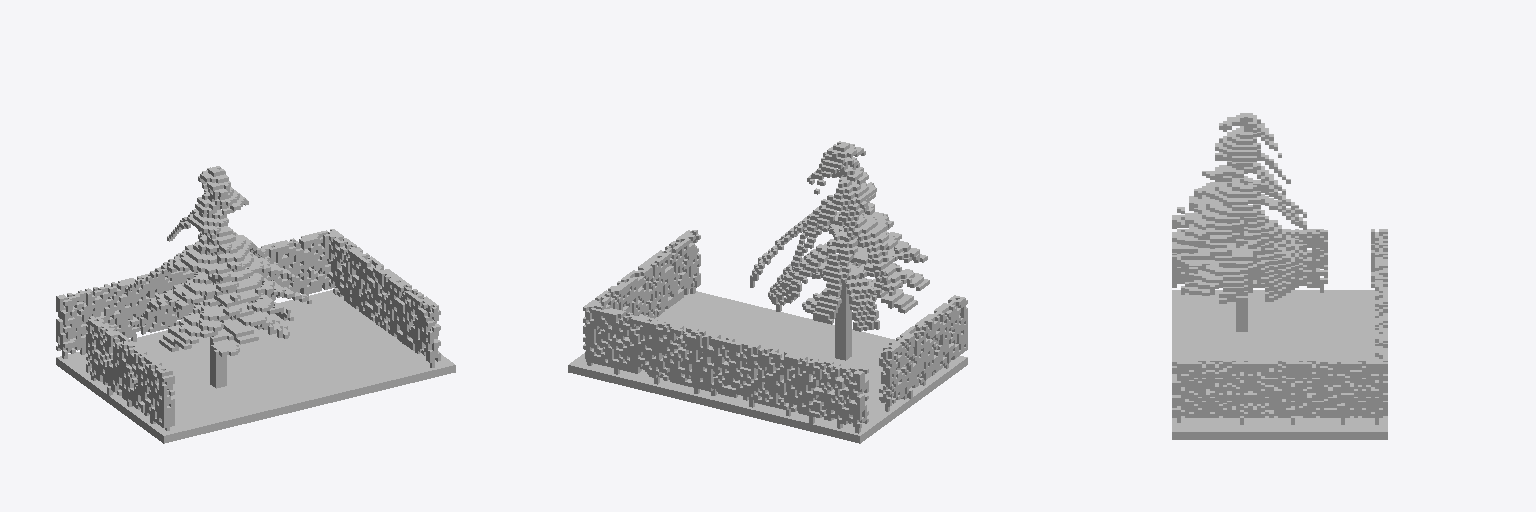
Rendered from immobiliare san marco veg.obj.
3 renders of one model, left to right at view 1: azimuth 30°, elevation 25°; view 2: azimuth 150°, elevation 25°; view 3: azimuth 270°, elevation 25°, orthographic.
Parts seen in each view (by area): view 1: object 1; view 2: object 1; view 3: object 1.
Boxes of the visible parts, box(x1,y1,x2,y2) form: object 1: box(56, 166, 455, 443); object 1: box(568, 141, 967, 443); object 1: box(1172, 113, 1387, 439).
Size of the model in its own units: 8 by 5.9 by 5.1.